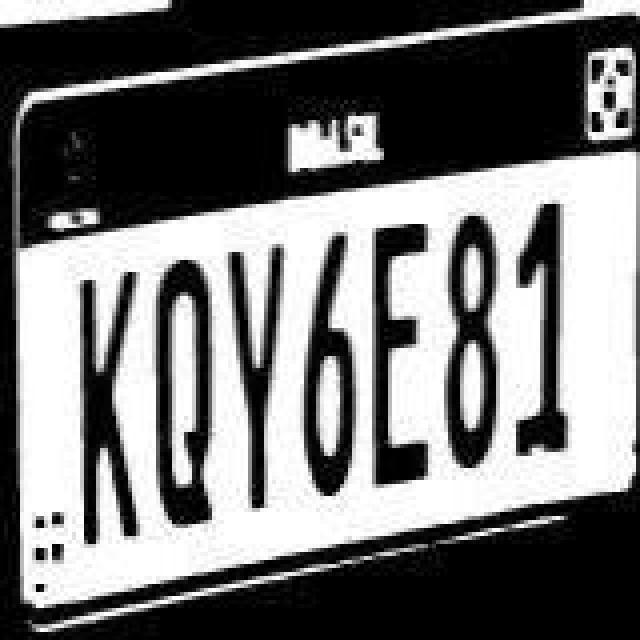1: (512, 194, 580, 462)
6: (298, 232, 362, 504)
8: (438, 210, 502, 478)
E: (366, 214, 430, 490)
K: (74, 266, 146, 550)
Q: (152, 256, 220, 536)
Y: (226, 236, 290, 516)
